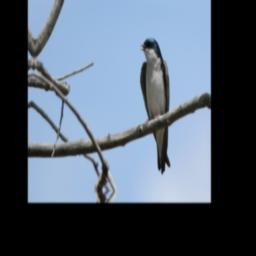Swallow: (133, 37, 176, 176)
